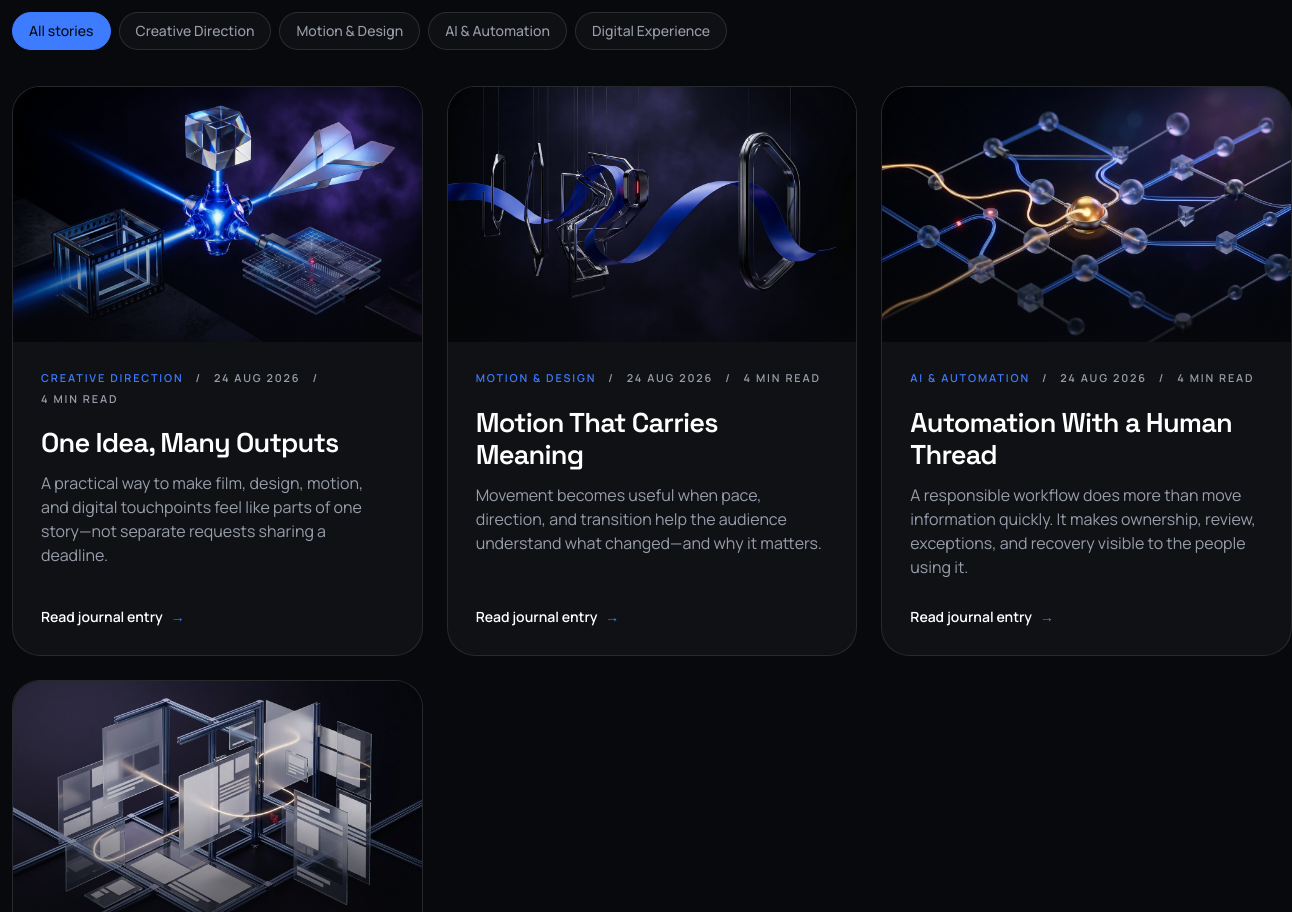
Test: Studio Journal archive › filters entries by editorial category with an announced result count
Click the button "AI & Automation".
click(498, 31)  # box [428,12,567,50]
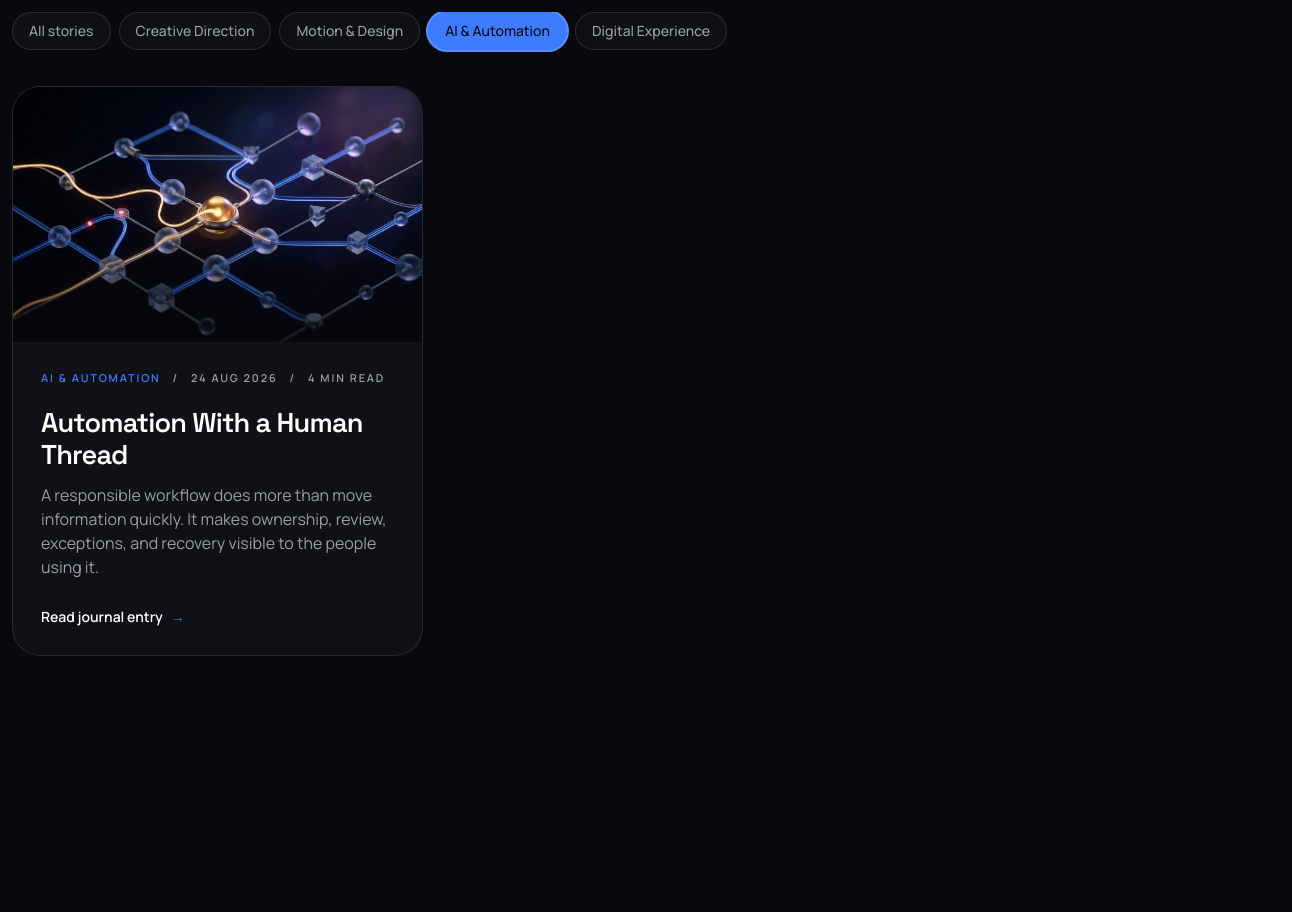
Expected: the link "Motion That Carries Meaning" is gone
